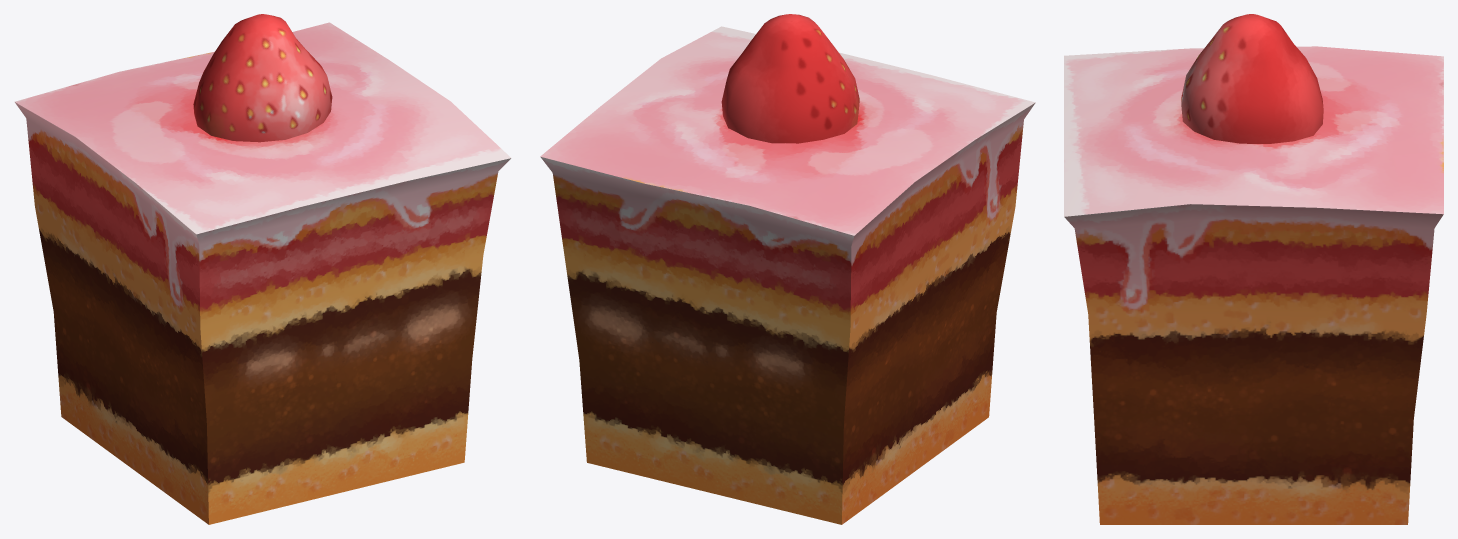
Rendered from 6_4_small_cake low.fbx.
3 views of the same model, side by side, from view 1: azimuth 30°, elevation 25°; view 2: azimuth 150°, elevation 25°; view 3: azimuth 270°, elevation 25° (orthographic). The views are drawn at different scales.
Parts seen in each view (by area): view 1: Cube.034, Circle.060; view 2: Cube.034, Circle.060; view 3: Cube.034, Circle.060.
Part boxes in pixels (x1,y1,x2,y2): Cube.034: (14,22,511,524); Circle.060: (193,14,332,142); Cube.034: (540,26,1035,524); Circle.060: (721,14,859,143); Cube.034: (1064,46,1443,524); Circle.060: (1181,14,1323,143).
Size of the model in its own units: 3 by 3.85 by 3.
1 material, 1 textured.
